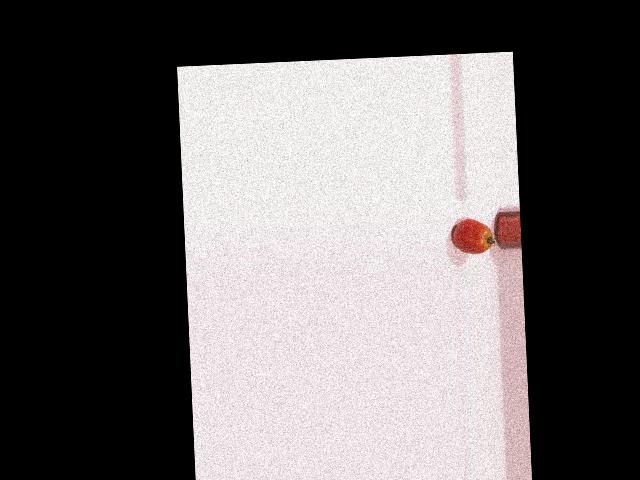tomato: (452, 217, 493, 254)
